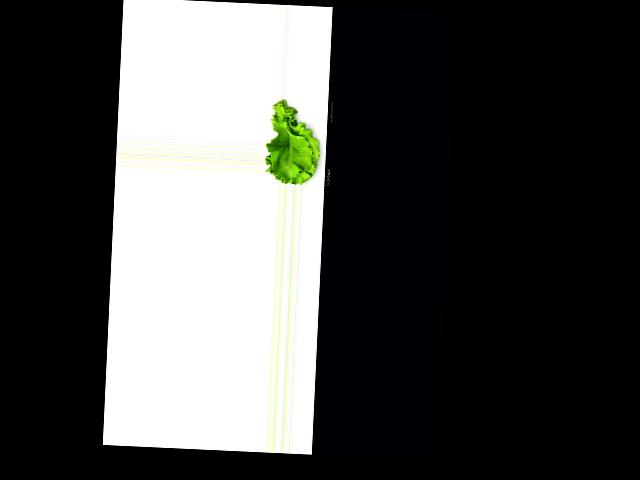lettuce: (263, 100, 326, 185)
